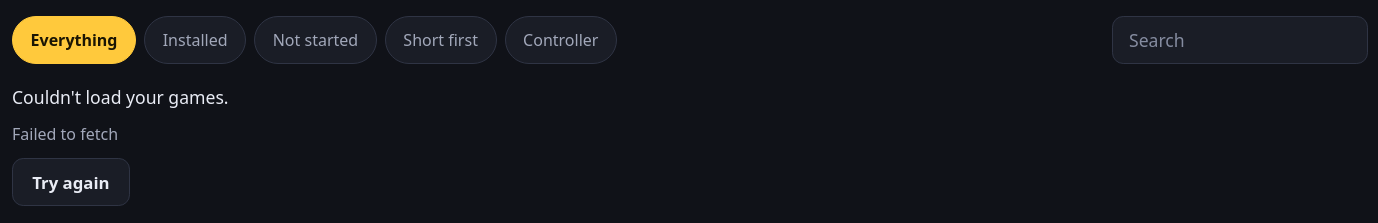
Test case: says the library failed to load, with Try again, never "0 games"
Expected: the message shows "Couldn't load your games.", [12,85,229,206]
Expected: the text "Failed to fetch" is shown, [12,122,118,146]
Click the button "Try again" at (71, 182), box [12,158,130,206]
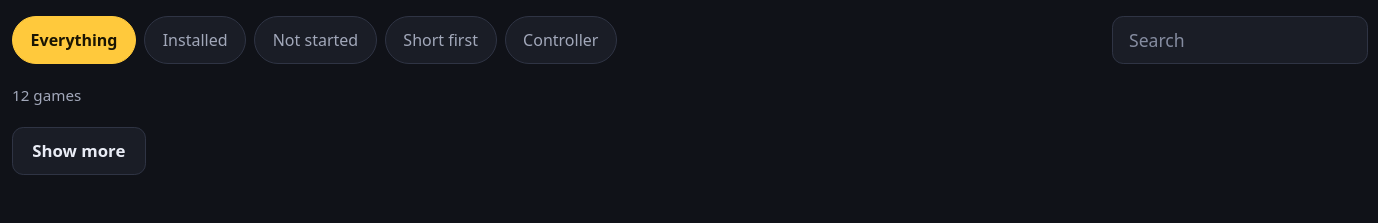
Now the text "12 games" is shown, box [12,85,81,105]
Now the message "Couldn't load your games. Failed to fetch Try again" is gone
